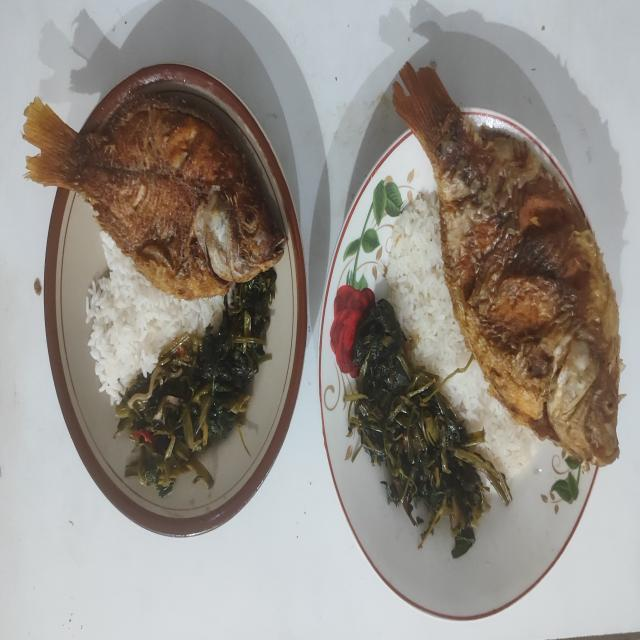ikan_mujair: (392, 63, 620, 466), (25, 95, 282, 299)
nasi_putih: (86, 232, 223, 404), (385, 186, 472, 378), (444, 362, 540, 478)
tumis_kangkung: (344, 298, 512, 558), (116, 268, 276, 497)
